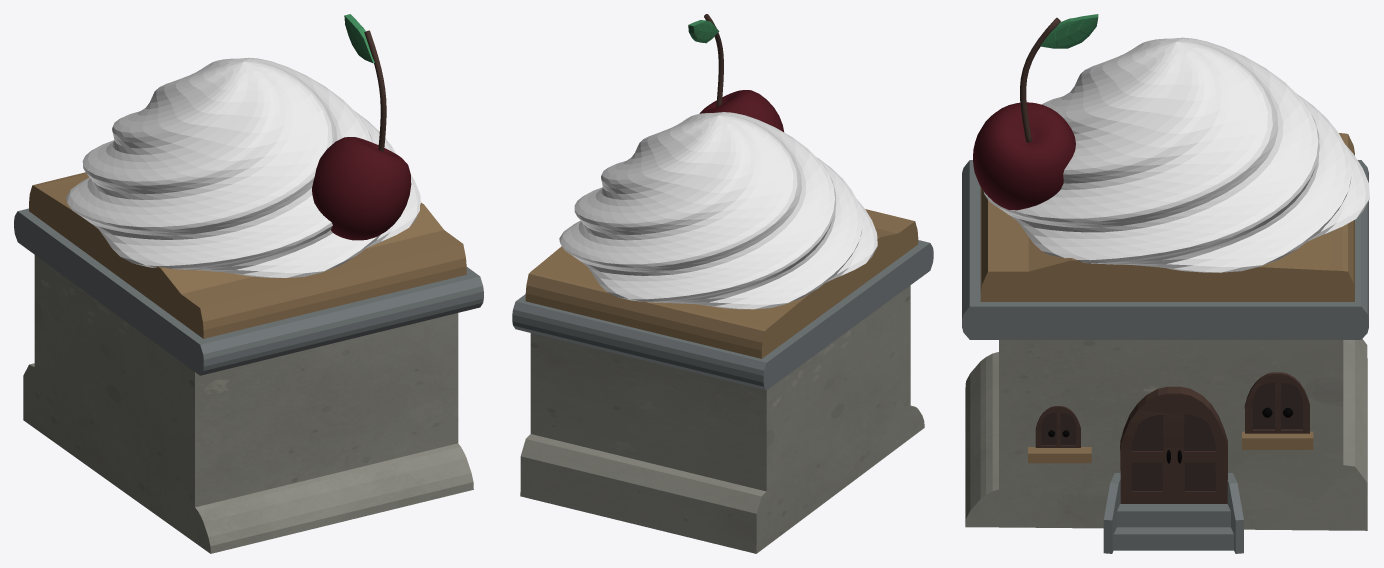
File: Company2.fbx
The picture shows the model from 3 angles, left to right: view 1: azimuth 30°, elevation 25°; view 2: azimuth 150°, elevation 25°; view 3: azimuth 270°, elevation 25°; orthographic projection. The views are drawn at different scales.
Parts seen in each view (by area): view 1: Cube.031, Cylinder.004, Cube.033, Cube.032, Sphere.020, BézierCurve.005, Cube.034; view 2: Cube.031, Cylinder.004, Cube.033, Cube.032, Sphere.020, Cube.034; view 3: Cylinder.004, Cube.031, Cube.032, Cube.033, Cube.038, Sphere.020, Cube.037, Cube.044, Cube.043, Cube.142, Cube.034, Cube.036 (+4 smaller).
Boxes of the visible parts, <box> form: Cube.031: <box>23,255,473,553</box>; Cylinder.004: <box>66,57,420,277</box>; Cube.033: <box>29,172,466,338</box>; Cube.032: <box>14,208,483,375</box>; Sphere.020: <box>312,137,411,240</box>; BézierCurve.005: <box>364,30,386,151</box>; Cube.034: <box>344,14,374,63</box>; Cube.031: <box>520,285,924,553</box>; Cylinder.004: <box>559,112,877,309</box>; Cube.033: <box>525,209,918,358</box>; Cube.032: <box>512,240,933,390</box>; Sphere.020: <box>699,90,783,131</box>; Cube.034: <box>688,20,719,43</box>; Cylinder.004: <box>983,37,1369,272</box>; Cube.031: <box>965,339,1367,530</box>; Cube.032: <box>962,160,1368,339</box>; Cube.033: <box>980,133,1354,301</box>; Cube.038: <box>1120,386,1227,503</box>; Sphere.020: <box>973,102,1075,210</box>; Cube.037: <box>1244,372,1309,433</box>; Cube.044: <box>1113,527,1233,550</box>; Cube.043: <box>1117,503,1230,527</box>; Cube.142: <box>1035,406,1080,447</box>; Cube.034: <box>1040,14,1098,48</box>; Cube.036: <box>1242,431,1313,449</box>.
Size of the model in its own units: 2.86 by 2.89 by 3.76.
